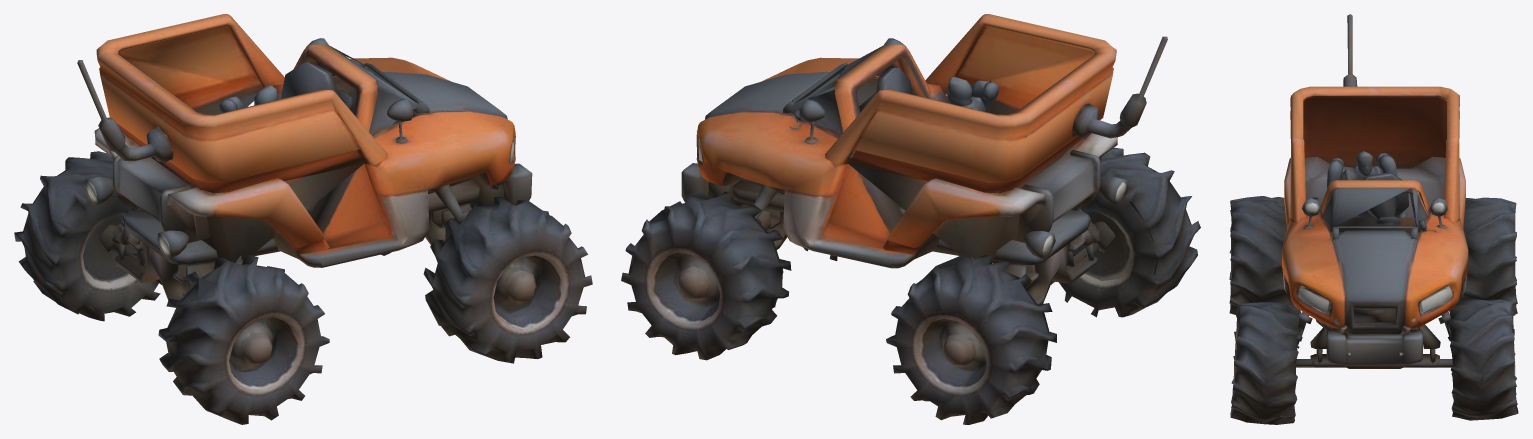
Rendered from rival-rover.glb.
3 views of the same model, side by side, from view 1: azimuth 30°, elevation 25°; view 2: azimuth 150°, elevation 25°; view 3: azimuth 270°, elevation 25° (orthographic). The views are drawn at different scales.
Parts seen in each view (by area): view 1: tripo_node_36cb77d1-85c1-4c6e-8616-f4edf160ae2c; view 2: tripo_node_36cb77d1-85c1-4c6e-8616-f4edf160ae2c; view 3: tripo_node_36cb77d1-85c1-4c6e-8616-f4edf160ae2c.
Boxes of the visible parts, x1,y1,x2,y2 form: tripo_node_36cb77d1-85c1-4c6e-8616-f4edf160ae2c: (14,14,592,424); tripo_node_36cb77d1-85c1-4c6e-8616-f4edf160ae2c: (621,14,1200,424); tripo_node_36cb77d1-85c1-4c6e-8616-f4edf160ae2c: (1229,14,1518,424).
Bounding box in the file's own units: 0.998 × 0.7402 × 0.7324.
Materials: 1 (1 with a texture image).
